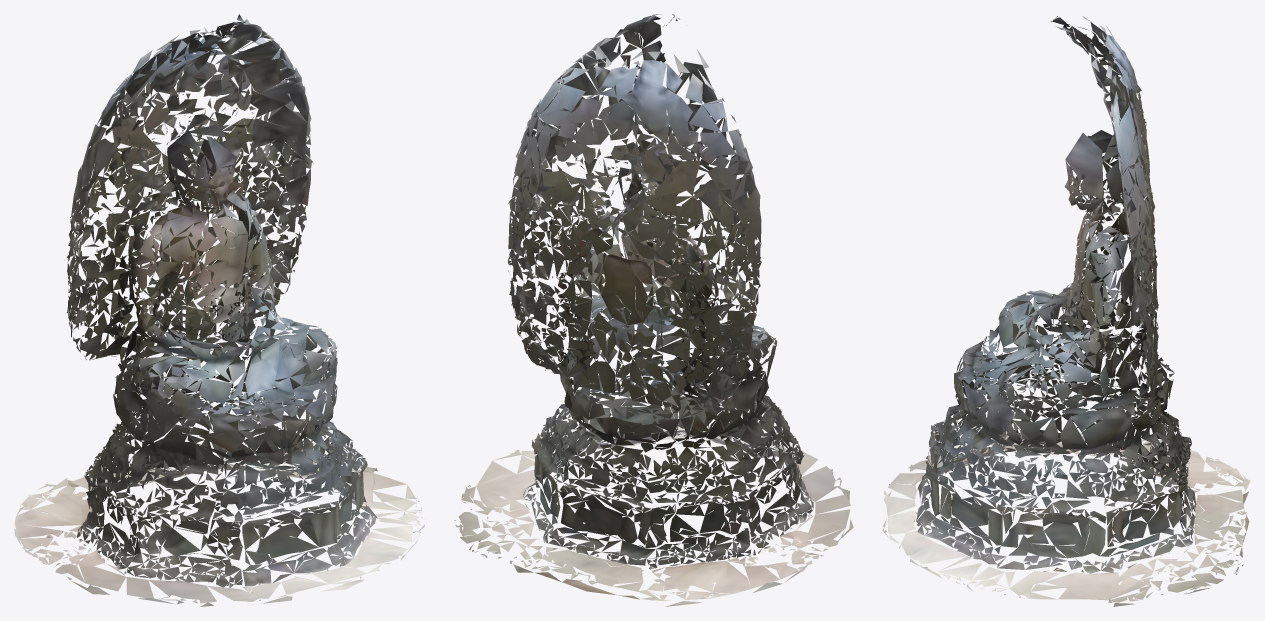
File: far.glb
The picture shows the model from 3 angles, left to right: view 1: azimuth 30°, elevation 25°; view 2: azimuth 150°, elevation 25°; view 3: azimuth 270°, elevation 25°; orthographic projection. The views are drawn at different scales.
Visible parts, largest first — view 1: statue-041; view 2: statue-041; view 3: statue-041.
Boxes of the visible parts, x1,y1,x2,y2 form: statue-041: (14,14,425,606); statue-041: (454,14,853,606); statue-041: (882,16,1250,606).
Bounding box in the file's own units: 0.7081 × 0.993 × 0.6521.
Materials: 1 (1 with a texture image).
